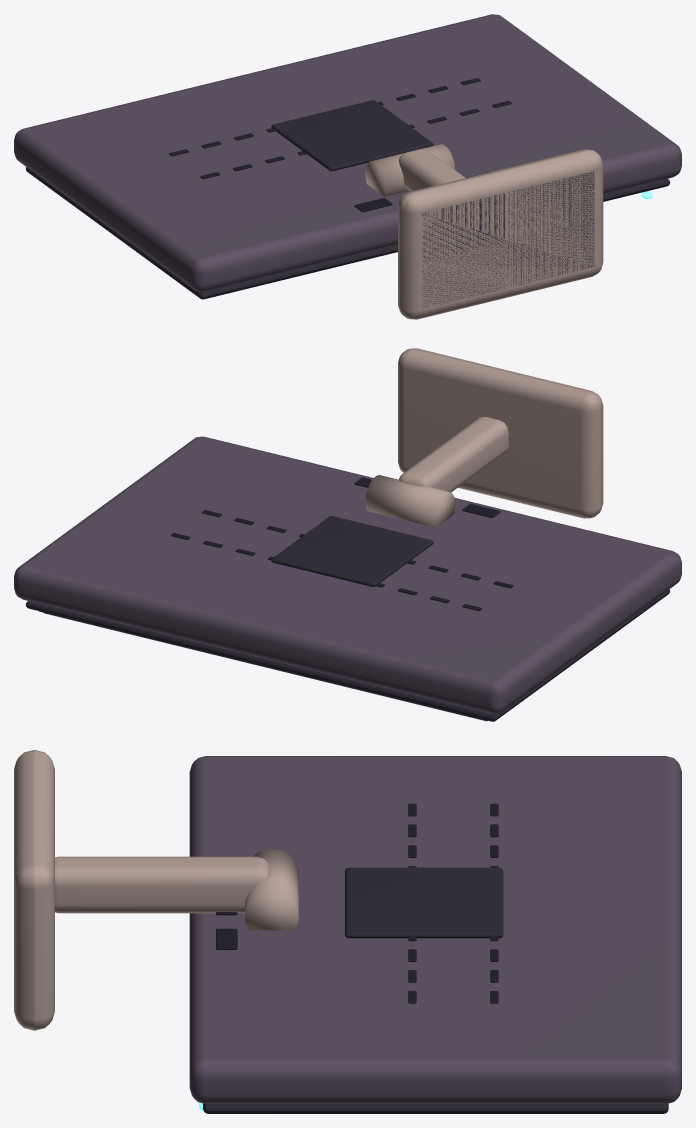
The model's file is C03-companion-monitor-review.glb.
3 renders of one model, top to bottom at view 1: azimuth 30°, elevation 25°; view 2: azimuth 150°, elevation 25°; view 3: azimuth 270°, elevation 25°, orthographic. The views are drawn at different scales.
Visible parts, largest first — view 1: C03M_SculptedDisplayShell, C03M_Batched_C03M_ChampagneMetalStand, C03M_Batched_C03M_PortRecess, C03M_Batched_C03M_DarkDisplayBezel; view 2: C03M_SculptedDisplayShell, C03M_Batched_C03M_ChampagneMetalStand, C03M_Batched_C03M_DarkDisplayBezel, C03M_Batched_C03M_PortRecess, C03M_Screen; view 3: C03M_SculptedDisplayShell, C03M_Batched_C03M_ChampagneMetalStand, C03M_Batched_C03M_DarkDisplayBezel, C03M_Batched_C03M_PortRecess.
Boxes of the visible parts, <box> form: C03M_SculptedDisplayShell: <box>14,14,681,291</box>; C03M_Batched_C03M_ChampagneMetalStand: <box>365,144,603,319</box>; C03M_Batched_C03M_PortRecess: <box>169,78,594,307</box>; C03M_Batched_C03M_DarkDisplayBezel: <box>26,100,670,299</box>; C03M_SculptedDisplayShell: <box>14,436,681,713</box>; C03M_Batched_C03M_ChampagneMetalStand: <box>365,348,603,527</box>; C03M_Batched_C03M_DarkDisplayBezel: <box>25,516,670,721</box>; C03M_Batched_C03M_PortRecess: <box>39,477,513,720</box>; C03M_Screen: <box>44,612,486,721</box>; C03M_SculptedDisplayShell: <box>189,756,681,1103</box>; C03M_Batched_C03M_ChampagneMetalStand: <box>14,750,298,1030</box>; C03M_Batched_C03M_DarkDisplayBezel: <box>203,867,668,1113</box>; C03M_Batched_C03M_PortRecess: <box>216,803,498,1003</box>.
Size of the model in its own units: 1.27 by 0.31 by 1.14.
